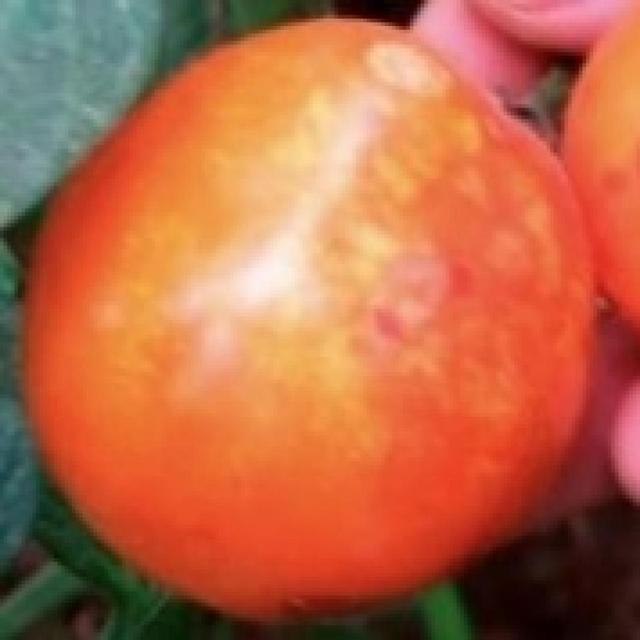Spotted wilt Virus Fruit: (14, 10, 398, 414)
